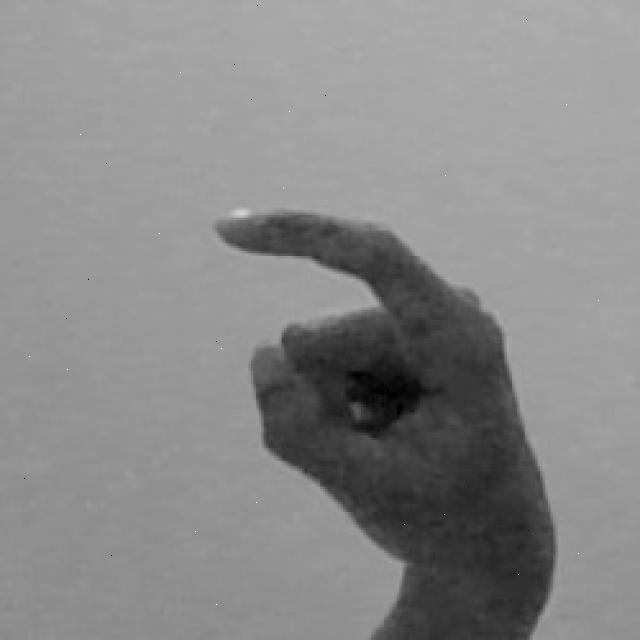X: (204, 197, 560, 640)
